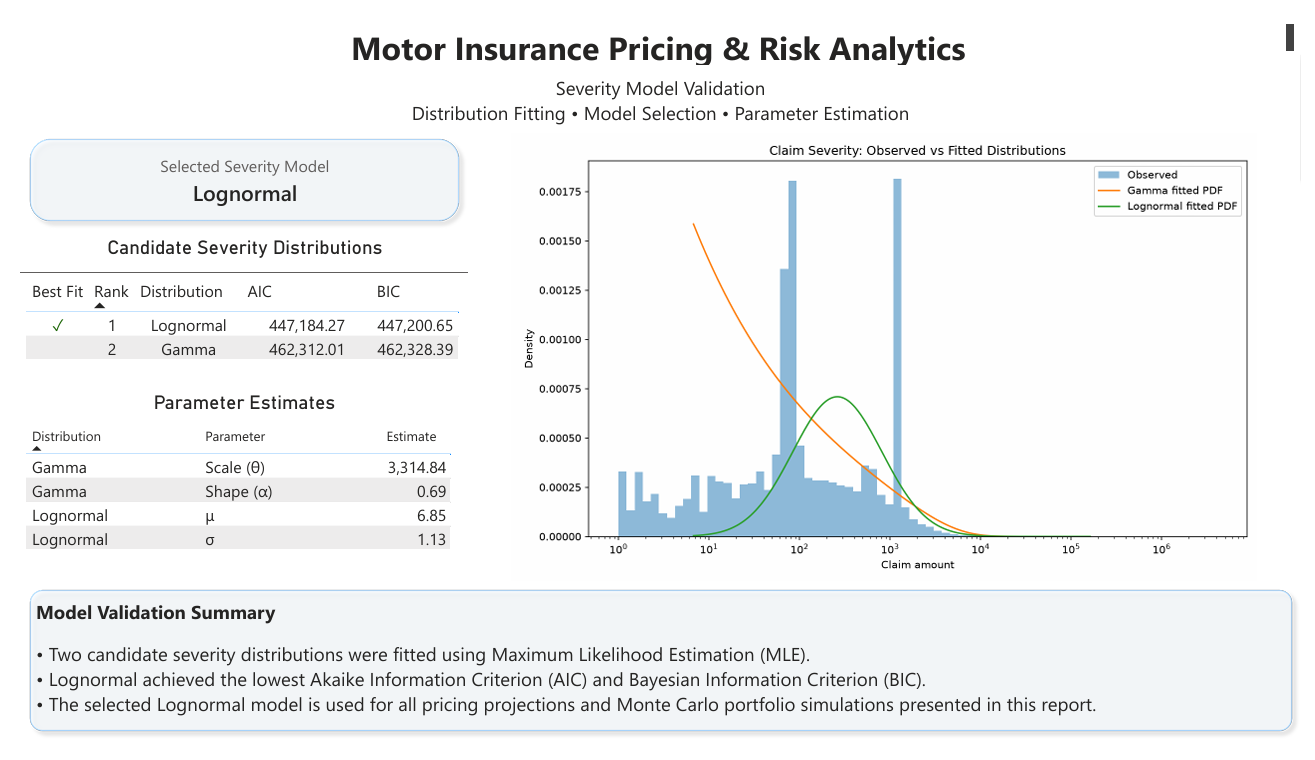

This screenshot's page, from the dashboard's own definition file:
{"tool":"powerbi","page":{"name":"Severity Model Validation","canvas":[1280,720],"ordinal":1},"visuals":[{"type":"shape","box":[0,110.2,447.5,100],"z":0},{"type":"shape","box":[0,561,1279.7,159.3],"z":1000},{"type":"tableEx","title":"Candidate Severity Distributions","fields":{"Values":["mart_candidate_models.best_fit","Sum(mart_candidate_models.rank)","mart_candidate_models.distribution","Sum(mart_candidate_models.aic)","Sum(mart_candidate_models.bic)"]},"box":[0,216,448,156],"z":2000},{"type":"textbox","box":[0,0,1279.3,50],"z":3000},{"type":"cardVisual","fields":{"Data":["Min(mart_pricing_summary.selected_severity_model)"]},"box":[45.8,113.6,355.9,93.2],"z":4000},{"type":"tableEx","title":"Parameter Estimates","fields":{"Values":["mart_model_parameters.distribution","mart_model_parameters.parameter","Sum(mart_model_parameters.estimate)"]},"box":[0,371.2,447.5,172.9],"z":5000},{"type":"textbox","box":[10,574,1260,132],"z":6000},{"type":"textbox","box":[0,50,1279.3,62.1],"z":7000},{"type":"image","box":[448,114,832,448],"z":8000}]}

Visuals, with their boxes in screenshot pixels (x1, y1, x2, y2), scaled from the page's 1280x720 canvas onto the 1315x760 screenshot:
shape: (0,116,460,222)
shape: (0,592,1314,759)
"Candidate Severity Distributions" tableEx: (0,228,460,393)
textbox: (0,0,1314,53)
cardVisual - Min(mart_pricing_summary.selected_severity_model): (47,120,413,218)
"Parameter Estimates" tableEx: (0,392,460,574)
textbox: (10,606,1305,745)
textbox: (0,53,1314,118)
image: (460,120,1314,593)
